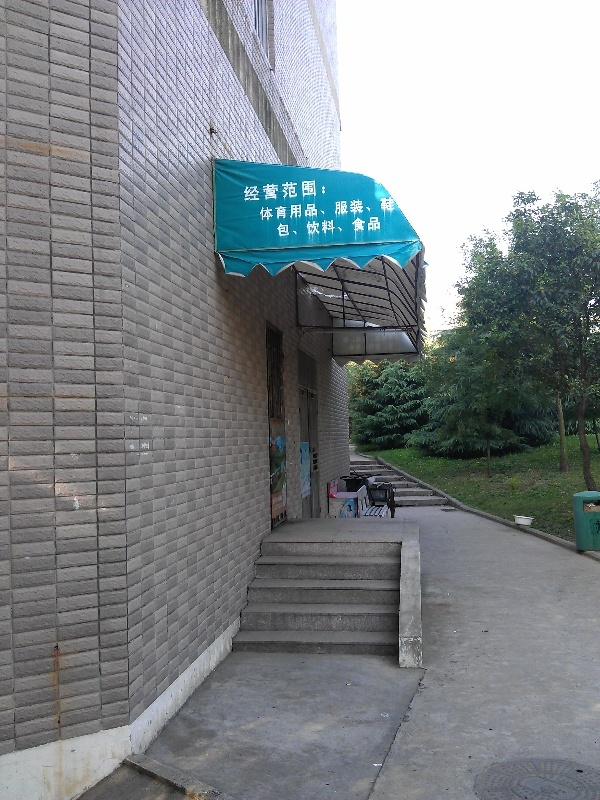text: (289, 213, 304, 241), (305, 213, 320, 241), (321, 213, 336, 241), (337, 213, 352, 241), (353, 213, 368, 241), (369, 213, 384, 241), (257, 197, 272, 224), (273, 197, 288, 224), (289, 197, 304, 224), (305, 197, 320, 224), (321, 197, 336, 224), (337, 197, 352, 224), (353, 197, 368, 224), (369, 197, 384, 224), (241, 177, 256, 203), (257, 177, 272, 203), (273, 177, 288, 203), (289, 177, 304, 203), (305, 177, 320, 203), (276, 213, 288, 241), (385, 197, 397, 224), (321, 177, 328, 203), (273, 495, 288, 505), (353, 335, 368, 344), (369, 335, 384, 344), (385, 335, 400, 344), (353, 343, 368, 351), (369, 343, 384, 351), (273, 505, 288, 512), (343, 335, 352, 344), (385, 343, 395, 351), (275, 503, 288, 508), (350, 343, 352, 351), (401, 335, 402, 344)
